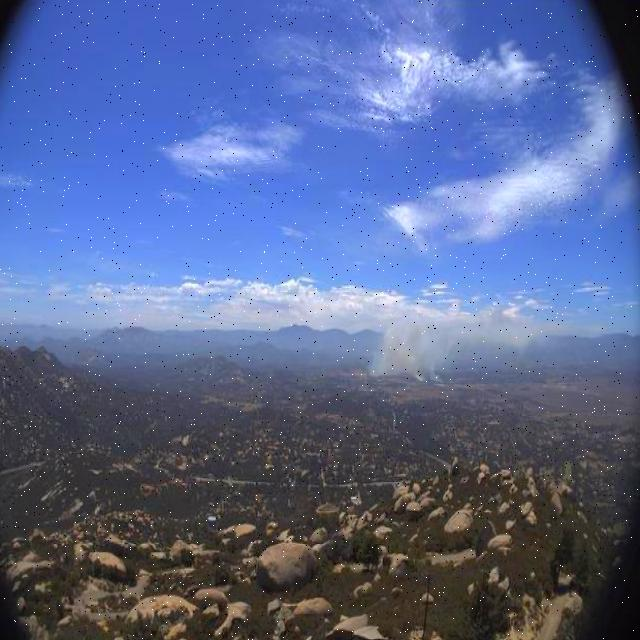smoke: (368, 304, 526, 379)
